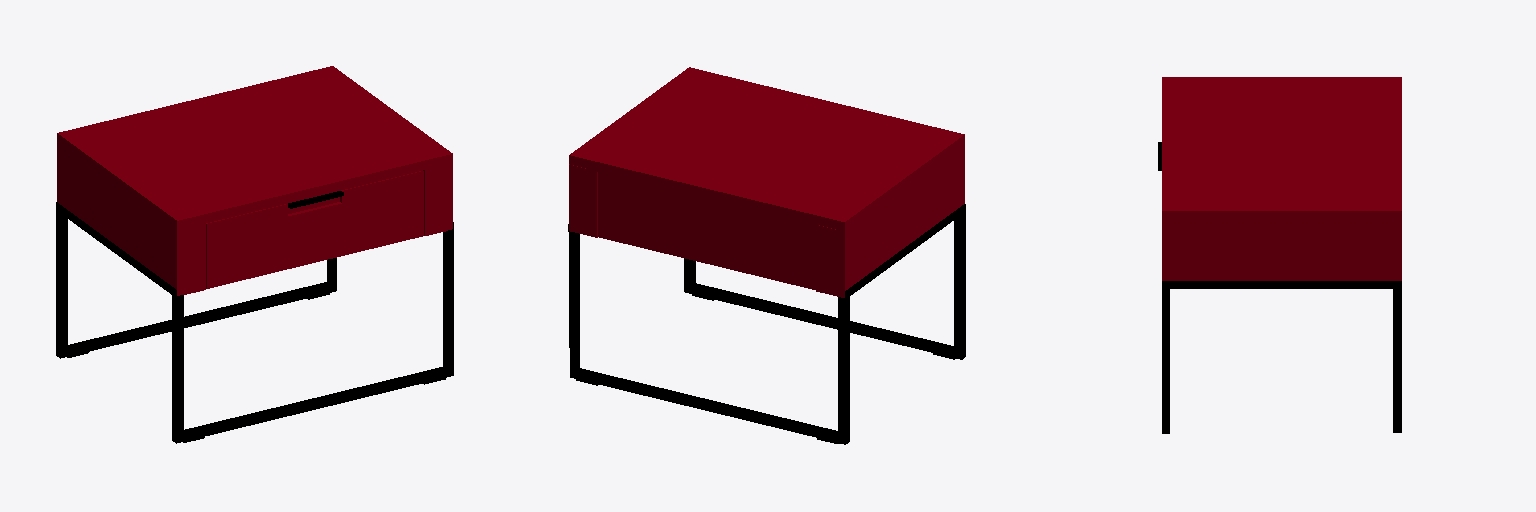
File: desk02.obj
The picture shows the model from 3 angles: view 1: azimuth 30°, elevation 25°; view 2: azimuth 150°, elevation 25°; view 3: azimuth 270°, elevation 25°; orthographic projection.
Visible parts, largest first — view 1: Object.9, Object.12, Object.4, Object.10, Object.8; view 2: Object.9, Object.11, Object.4, Object.10, Object.8; view 3: Object.9, Object.8, Object.4.
Boxes of the visible parts, <box> form: Object.9: <box>57,66,452,229</box>; Object.12: <box>206,171,423,288</box>; Object.4: <box>56,202,453,443</box>; Object.10: <box>57,143,205,295</box>; Object.8: <box>423,163,452,235</box>; Object.9: <box>569,67,964,231</box>; Object.11: <box>598,172,815,289</box>; Object.4: <box>568,204,965,444</box>; Object.10: <box>816,144,964,297</box>; Object.8: <box>569,164,597,237</box>; Object.9: <box>1162,77,1401,220</box>; Object.8: <box>1162,221,1401,280</box>; Object.4: <box>1162,281,1401,433</box>.
Size of the model in its own units: 128 by 98.4 by 97.4.